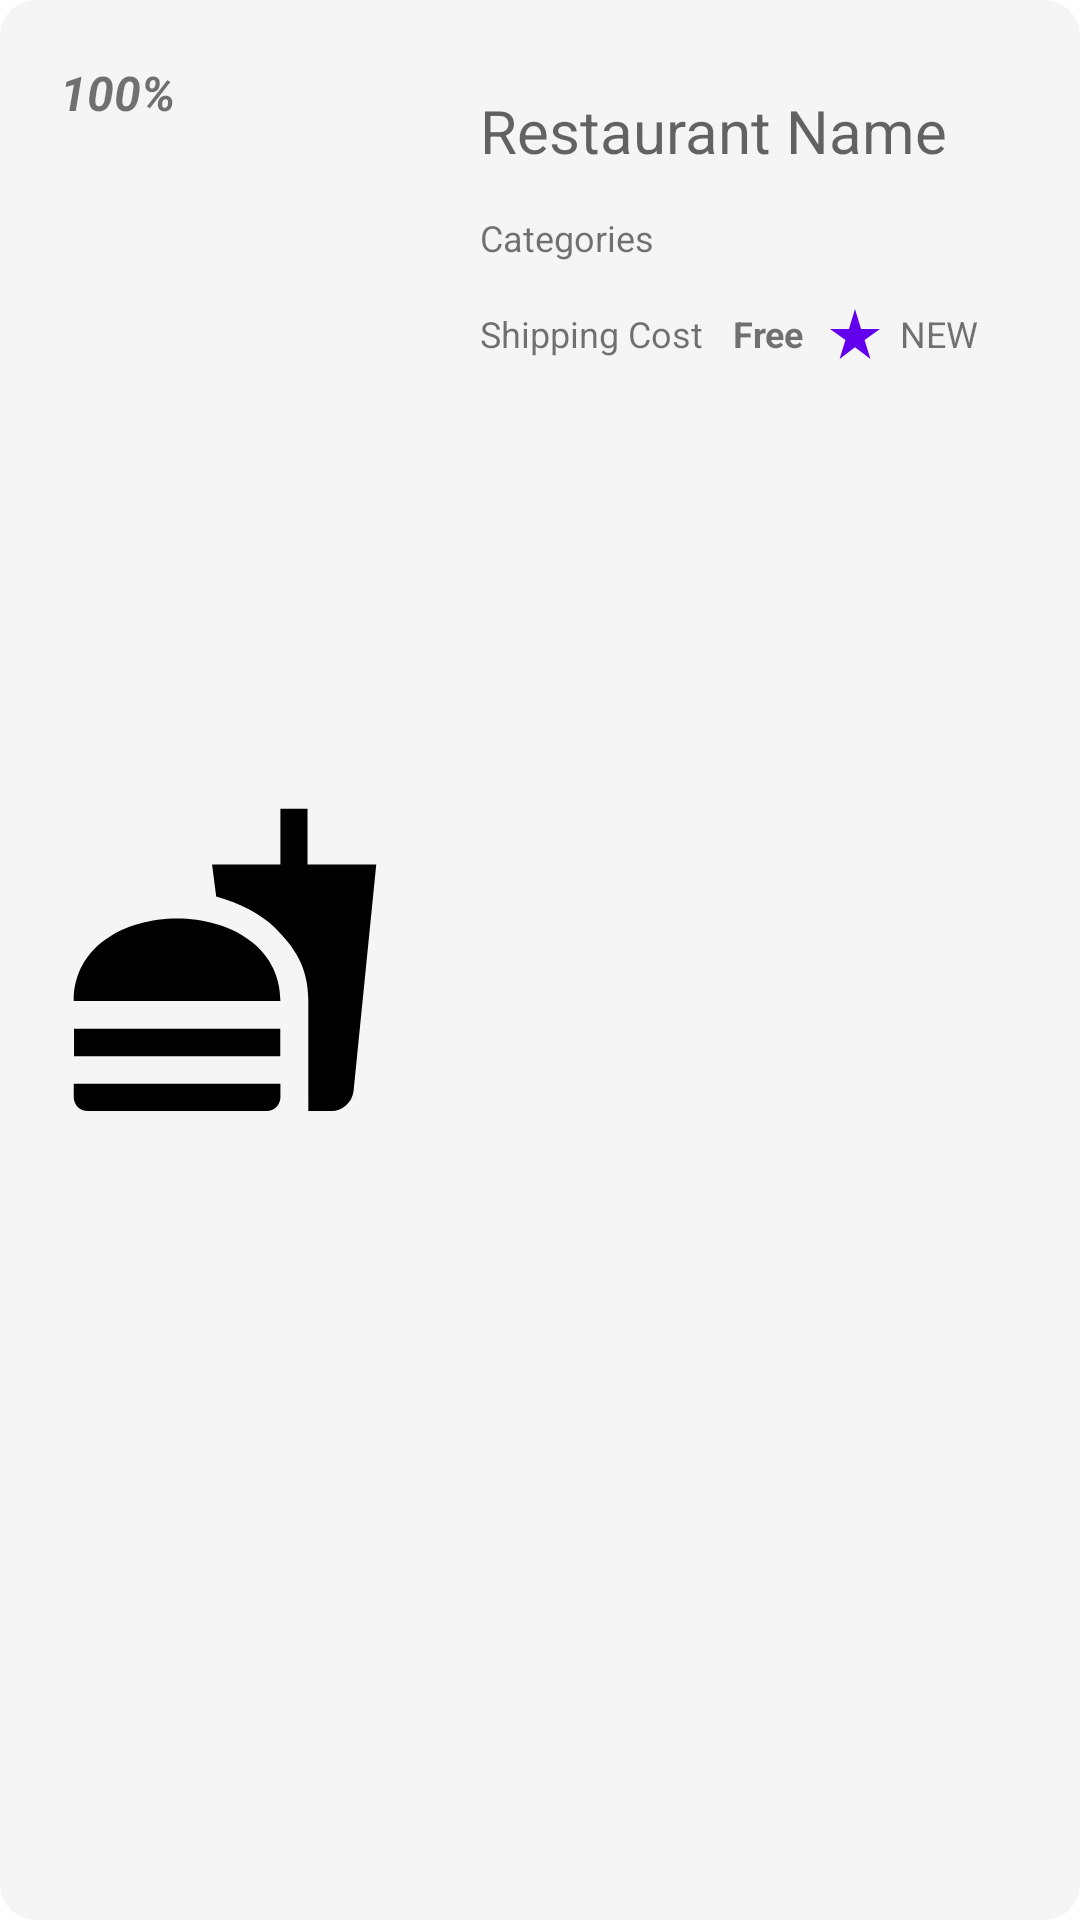

Screen size 1080×1920. Icon name, then its box in pixels as (x1, y1, x2, y2):
star: (830, 309, 880, 359)
